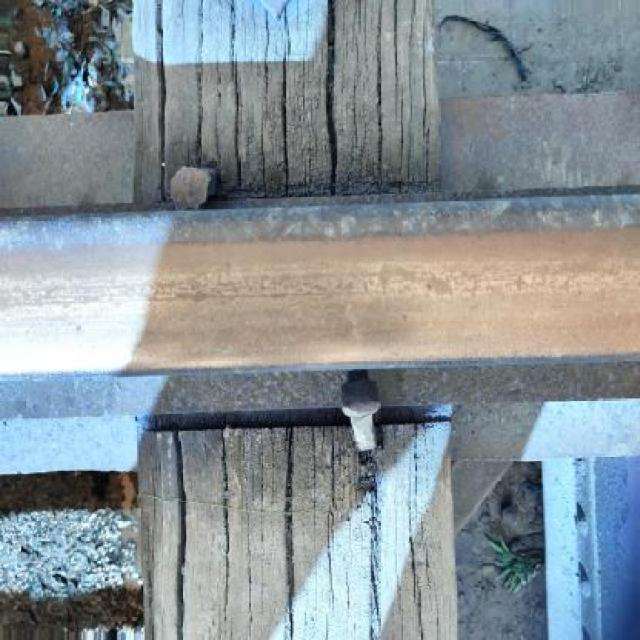non-defective: (0, 185, 640, 409)
